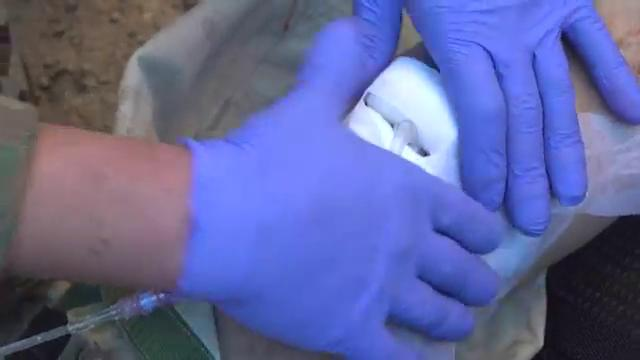gauze: (344, 55, 470, 189)
